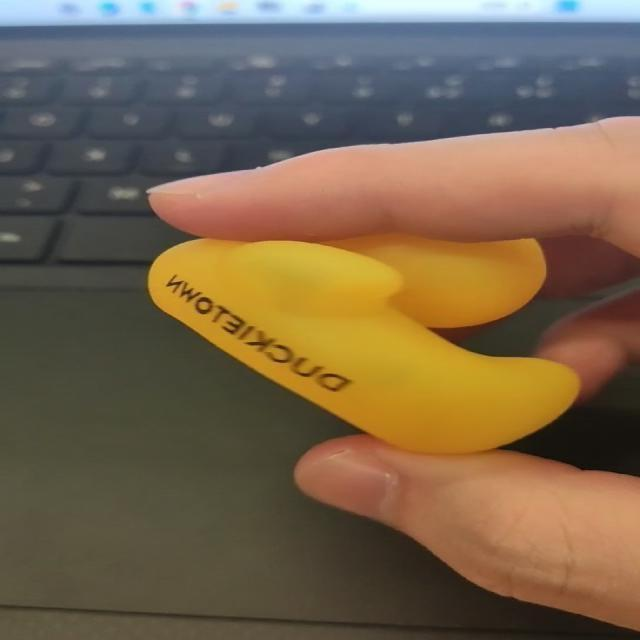rubber-duck: (147, 234, 577, 451)
